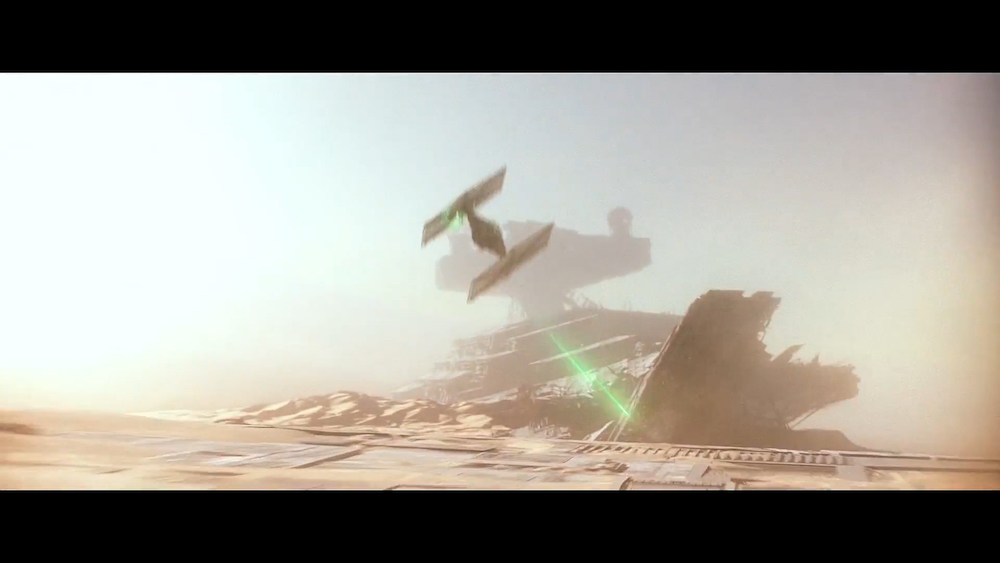Tie Fighter: (422, 164, 555, 307)
